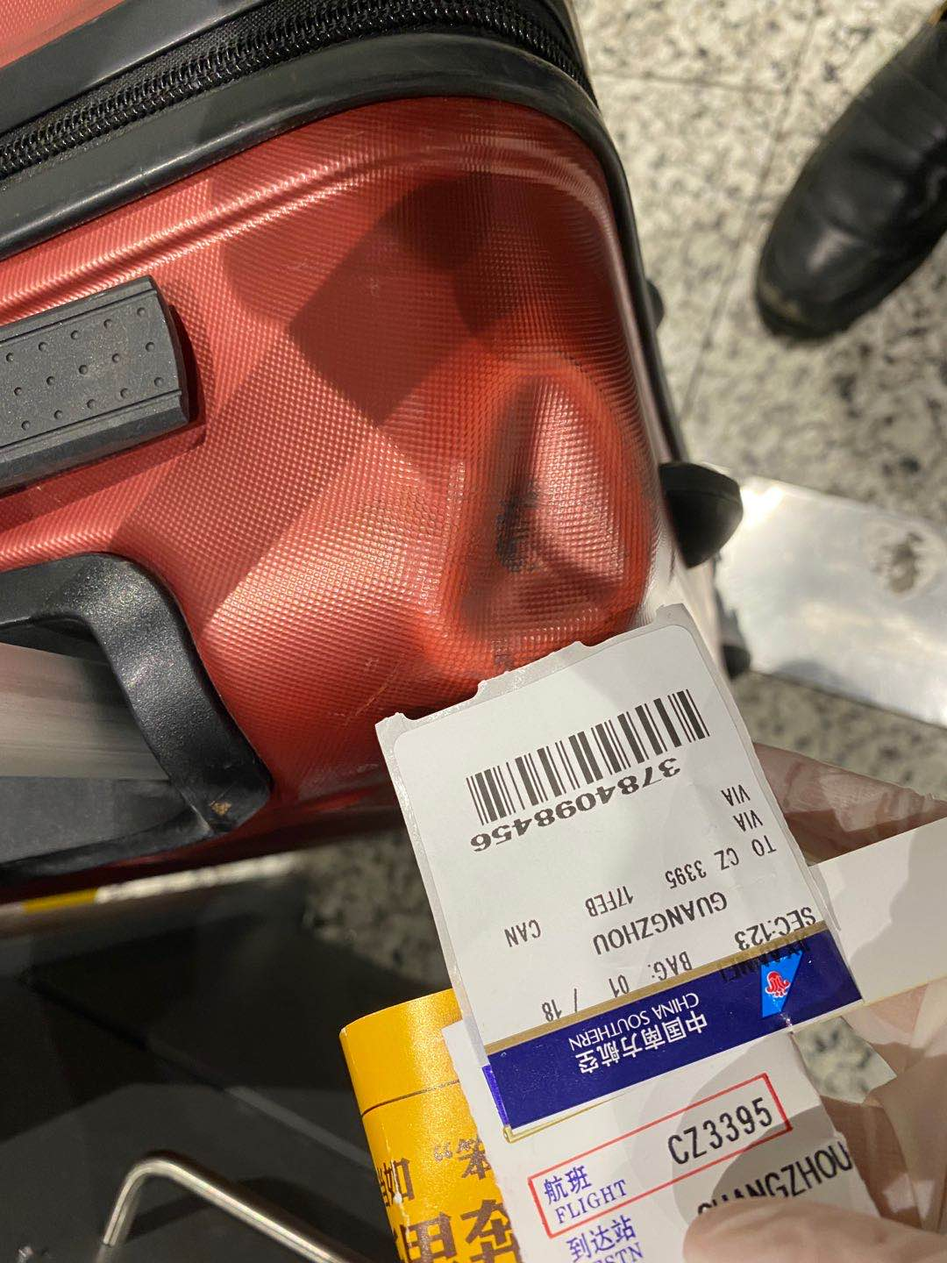rupture: (409, 356, 649, 683)
